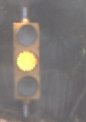Yellow: (10, 15, 43, 112)
